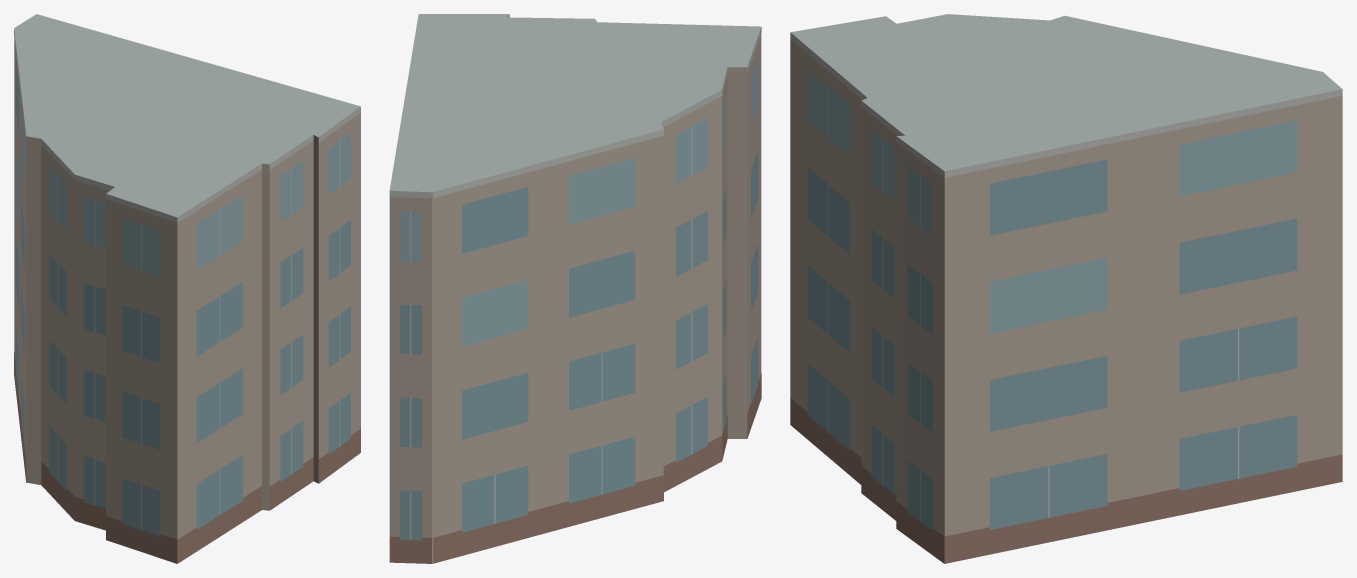
File: survey-upis-32475038.glb
3 views of the same model, side by side, from view 1: azimuth 30°, elevation 25°; view 2: azimuth 150°, elevation 25°; view 3: azimuth 270°, elevation 25° (orthographic). The views are drawn at different scales.
Parts seen in each view (by area): view 1: survey-upis-32475038.tmp; view 2: survey-upis-32475038.tmp; view 3: survey-upis-32475038.tmp.
Boxes of the visible parts, x1,y1,x2,y2 form: survey-upis-32475038.tmp: (14,14,360,563); survey-upis-32475038.tmp: (389,14,761,563); survey-upis-32475038.tmp: (790,14,1342,563).
Size of the model in its own units: 12.62 by 14.67 by 18.72.
